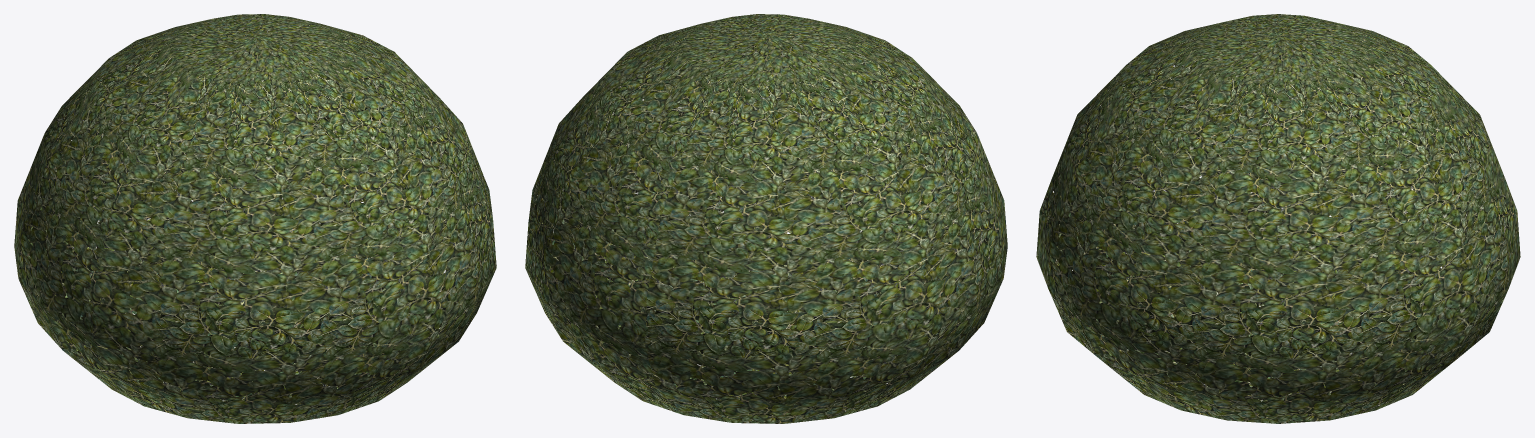
File: BurfordHolly_Gumdrop_Low_Lod01.fbx
The picture shows the model from 3 angles, left to right: view 1: azimuth 30°, elevation 25°; view 2: azimuth 150°, elevation 25°; view 3: azimuth 270°, elevation 25°; orthographic projection.
Visible parts, largest first — view 1: BurfordHolly_Gumdrop_Low_Lod01; view 2: BurfordHolly_Gumdrop_Low_Lod01; view 3: BurfordHolly_Gumdrop_Low_Lod01.
Boxes of the visible parts, bbox=[...] form: BurfordHolly_Gumdrop_Low_Lod01: bbox=[14, 14, 496, 423]; BurfordHolly_Gumdrop_Low_Lod01: bbox=[525, 14, 1007, 423]; BurfordHolly_Gumdrop_Low_Lod01: bbox=[1036, 14, 1520, 423].
Bounding box in the file's own units: 150 × 121 × 150.
